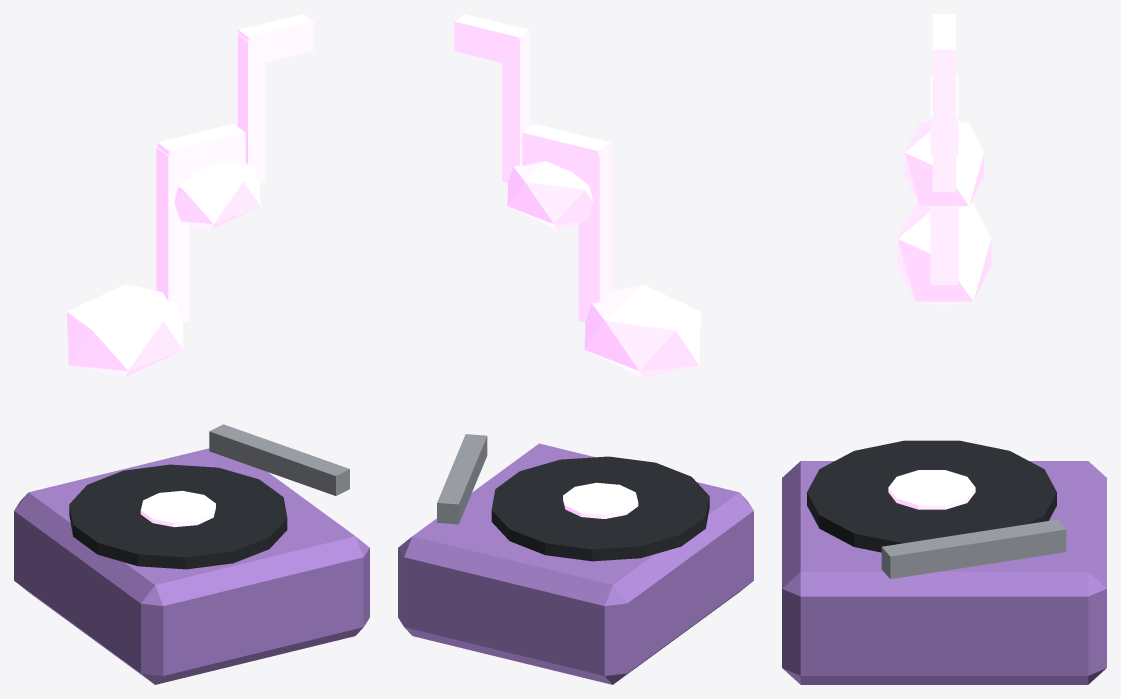
Rendered from headphones_m2_2.glb.
The picture shows the model from 3 angles, left to right: view 1: azimuth 30°, elevation 25°; view 2: azimuth 150°, elevation 25°; view 3: azimuth 270°, elevation 25°; orthographic projection. The views are drawn at different scales.
Parts seen in each view (by area): view 1: headphones_m2_2_mesh; view 2: headphones_m2_2_mesh; view 3: headphones_m2_2_mesh.
Boxes of the visible parts, x1=… form: headphones_m2_2_mesh: x1=14, y1=14, x2=369, y2=684; headphones_m2_2_mesh: x1=398, y1=14, x2=753, y2=684; headphones_m2_2_mesh: x1=782, y1=14, x2=1106, y2=684.
Bounding box in the file's own units: 0.2697 × 0.5687 × 0.26.
